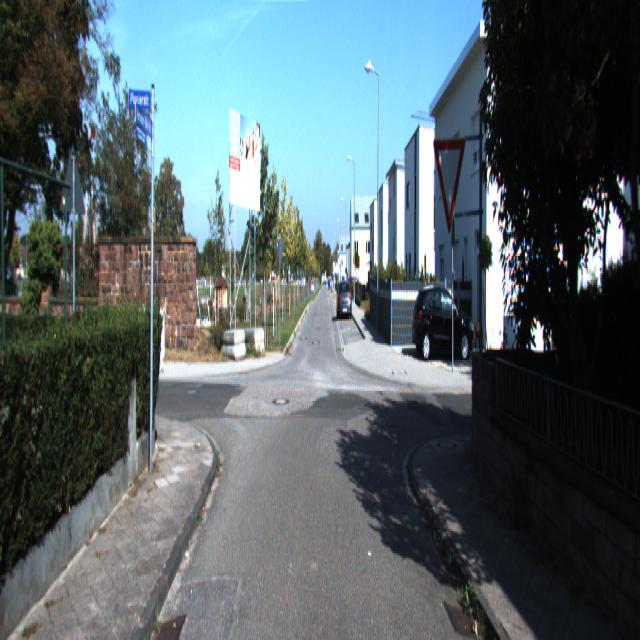Car: (410, 277, 474, 361), (337, 277, 351, 317)
